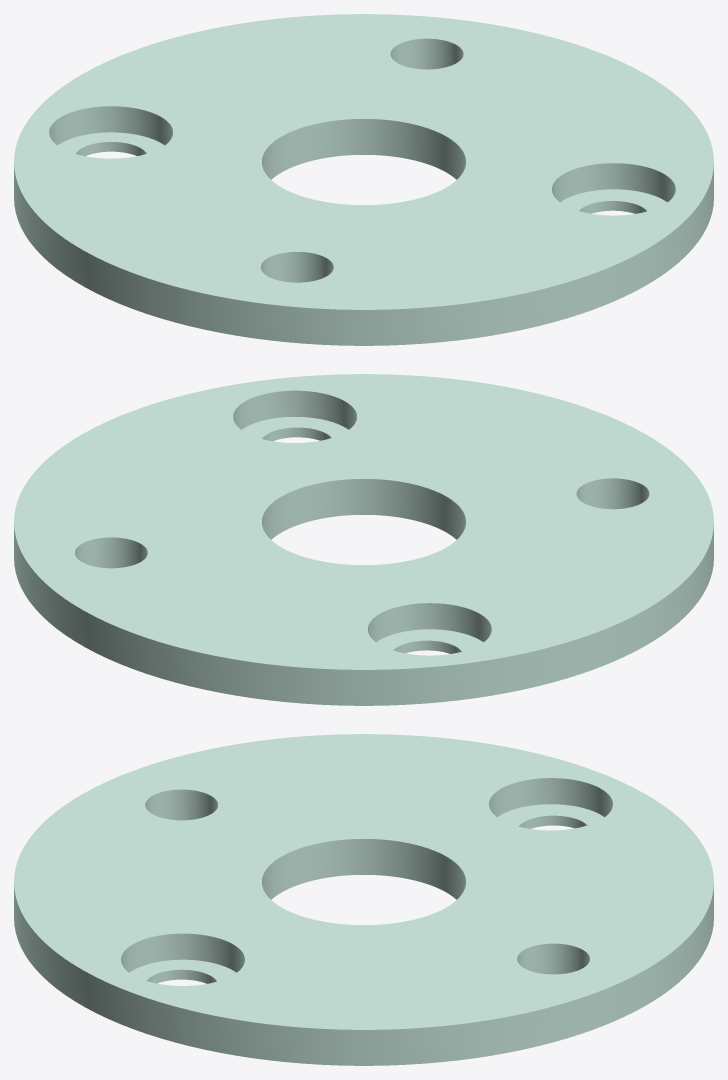
3 renders of one model, top to bottom at view 1: azimuth 30°, elevation 25°; view 2: azimuth 150°, elevation 25°; view 3: azimuth 270°, elevation 25°, orthographic.
Parts seen in each view (by area): view 1: Renderer Node; view 2: Renderer Node; view 3: Renderer Node.
Boxes of the visible parts, box(x1,y1,x2,y2) form: Renderer Node: box(14, 14, 713, 345); Renderer Node: box(14, 374, 713, 705); Renderer Node: box(14, 734, 713, 1065).
Bounding box in the file's own units: 1.52 × 0.0859 × 1.52.
